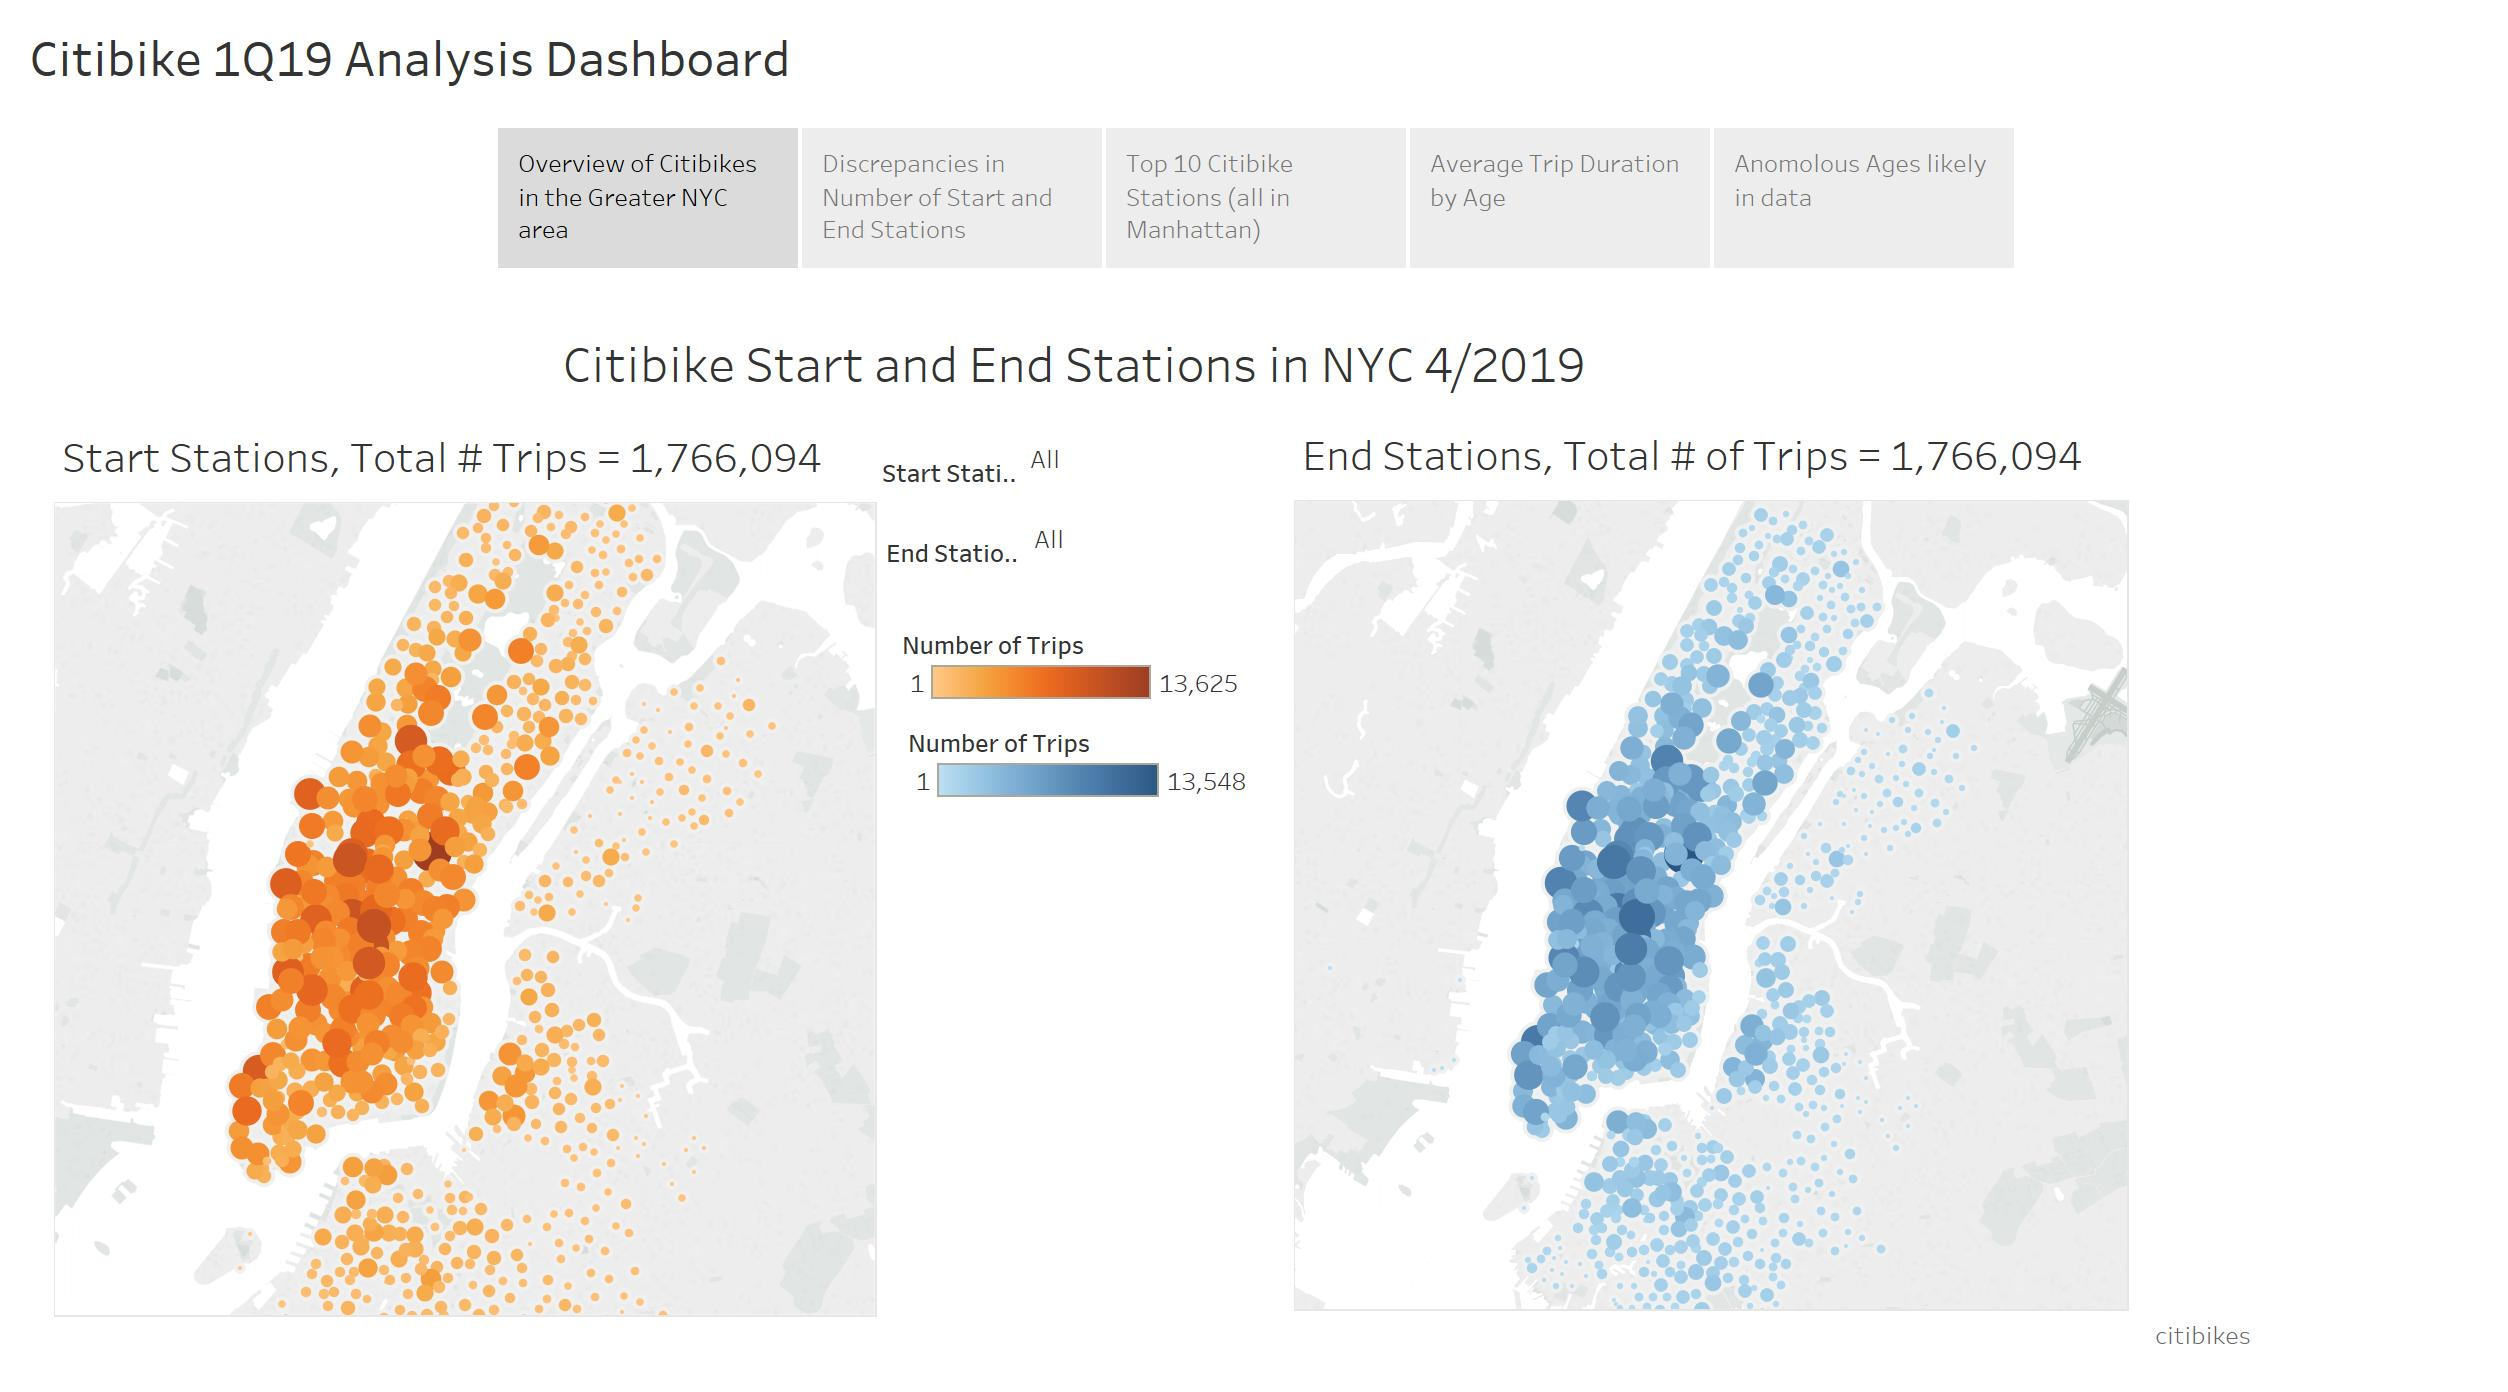

What the dashboard file says about the page in this screenshot:
{"tool":"tableau","page":{"name":"Total Number of Start and End Stations to date","canvas":[1000,1000],"units":"permille","ordinal":5},"visuals":[{"type":"title","box":[16.3,18.7,821.8,47.6]},{"type":"worksheet","title":"End Stations","mark":"Automatic","rows":["end station latitude"],"cols":["end station longitude"],"box":[516,106.3,337.3,834.8]},{"type":"worksheet","title":"Start Stations","mark":"Automatic","rows":["start station latitude"],"cols":["start station longitude"],"box":[15.2,107.8,332.5,837.6]},{"type":"filter","title":"Start Stations","param":"[federated.0grz1eo1pkrk0v1ddi04d011alyu].[none:start station name:nk]","box":[350,132.5,160,55]},{"type":"filter","title":"End Stations","param":"[federated.0grz1eo1pkrk0v1ddi04d011alyu].[none:end station name:nk]","box":[351,206.2,160,55]},{"type":"legend","title":"Start Stations","param":"[federated.0grz1eo1pkrk0v1ddi04d011alyu].[sum:Number of Records:qk]","box":[358,297.4,140,94.8]},{"type":"legend","title":"End Stations","param":"[federated.0grz1eo1pkrk0v1ddi04d011alyu].[sum:Number of Records:qk]","box":[360.5,387.9,140,94.8]},{"type":"text","box":[862,942.5,113,37.5]}]}

Visuals, with their boxes on the dashboard's canvas, which has no fixed pixel size, in thousandths of its width and height (x1, y1, x2, y2). These are canvas units, not pixel positions in the 2508x1392 screenshot, which may show the page scaled, cropped or inside an application window:
title: <box>16,19,838,66</box>
"End Stations" worksheet: <box>516,106,853,941</box>
"Start Stations" worksheet: <box>15,108,348,945</box>
"Start Stations" filter: <box>350,132,510,188</box>
"End Stations" filter: <box>351,206,511,261</box>
"Start Stations" legend: <box>358,297,498,392</box>
"End Stations" legend: <box>360,388,500,483</box>
text: <box>862,942,975,980</box>
